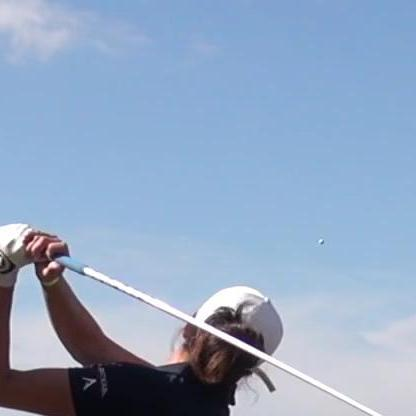golfball: (315, 236, 323, 244)
